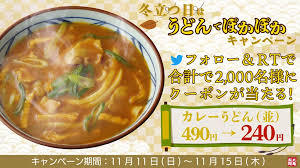curry: (1, 5, 168, 155)
